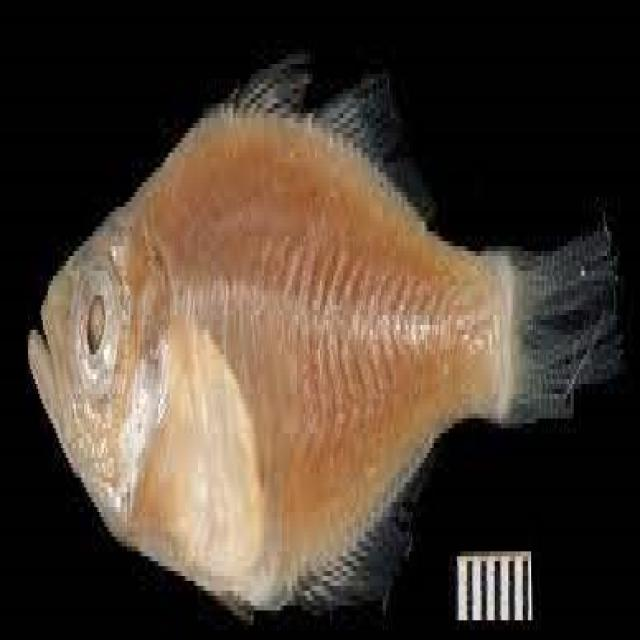Glass-Perchlet: (8, 45, 640, 586)
